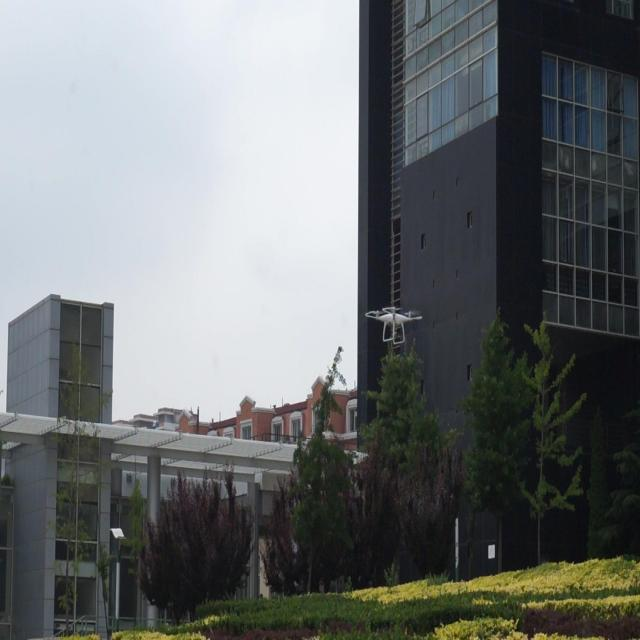UAV: (365, 306, 423, 344)
